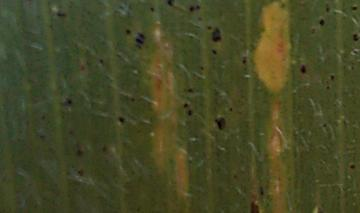tarspot: (212, 113, 228, 132), (59, 94, 76, 110), (134, 30, 147, 50), (210, 25, 223, 44), (113, 113, 129, 127), (246, 197, 260, 213), (296, 62, 309, 77), (72, 147, 87, 160), (316, 15, 327, 31), (122, 25, 133, 38), (147, 3, 157, 17), (239, 55, 251, 66), (183, 107, 195, 118), (75, 168, 87, 179), (36, 131, 49, 141), (38, 112, 49, 123), (350, 32, 360, 44), (327, 71, 337, 83), (95, 56, 107, 66), (184, 84, 194, 96), (226, 104, 236, 116), (320, 119, 330, 131), (322, 83, 335, 92), (54, 11, 68, 19), (127, 94, 137, 105), (347, 4, 359, 13), (100, 142, 108, 155), (180, 99, 190, 109), (347, 161, 357, 171), (197, 63, 207, 73), (209, 48, 220, 57), (323, 4, 332, 15), (187, 1, 193, 15), (166, 1, 176, 9), (194, 2, 202, 12)
